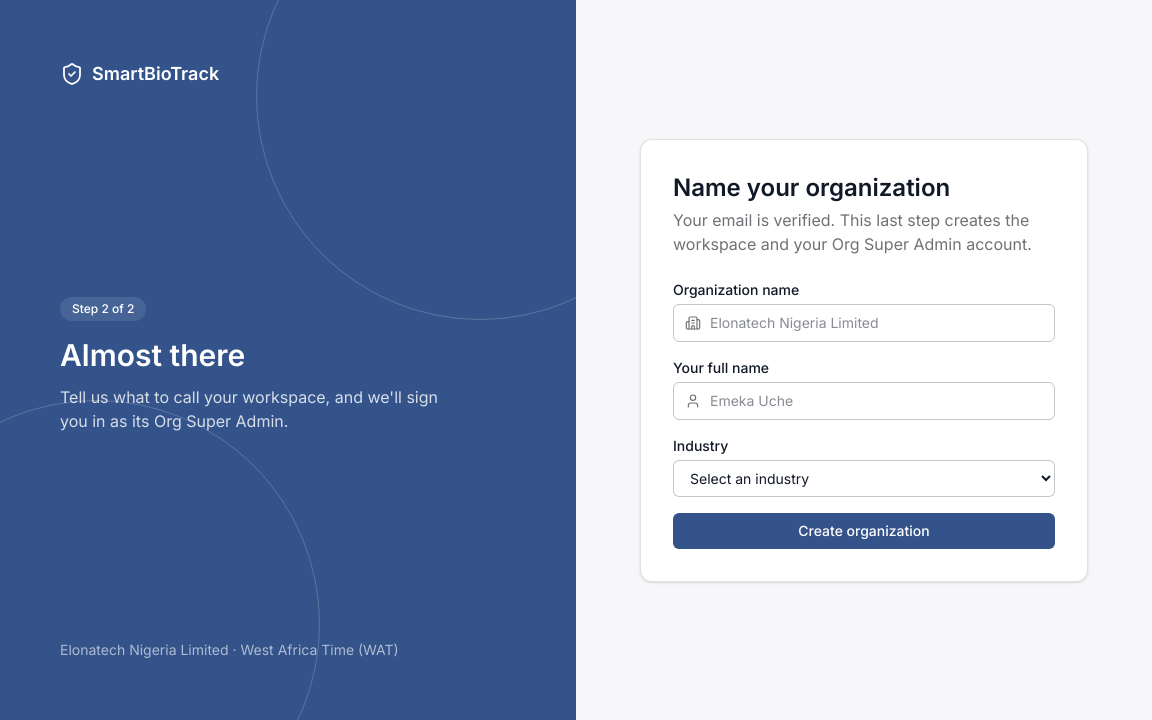
it: when it fails › reports an expired link in the server’s words
Type "Acme Ltd" into the field labelled "Organization name" at [864, 322], box [673,304,1055,342]
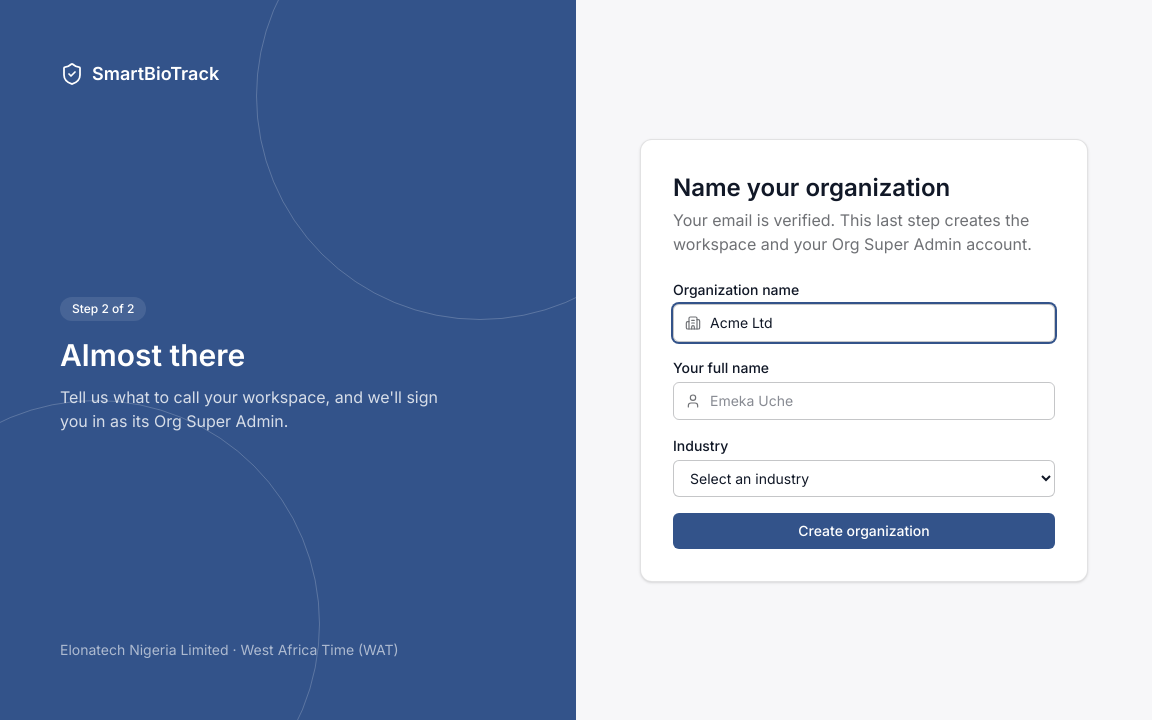
Type "Ada Okafor" into the field labelled "Your full name" at [864, 400], box [673,382,1055,420]
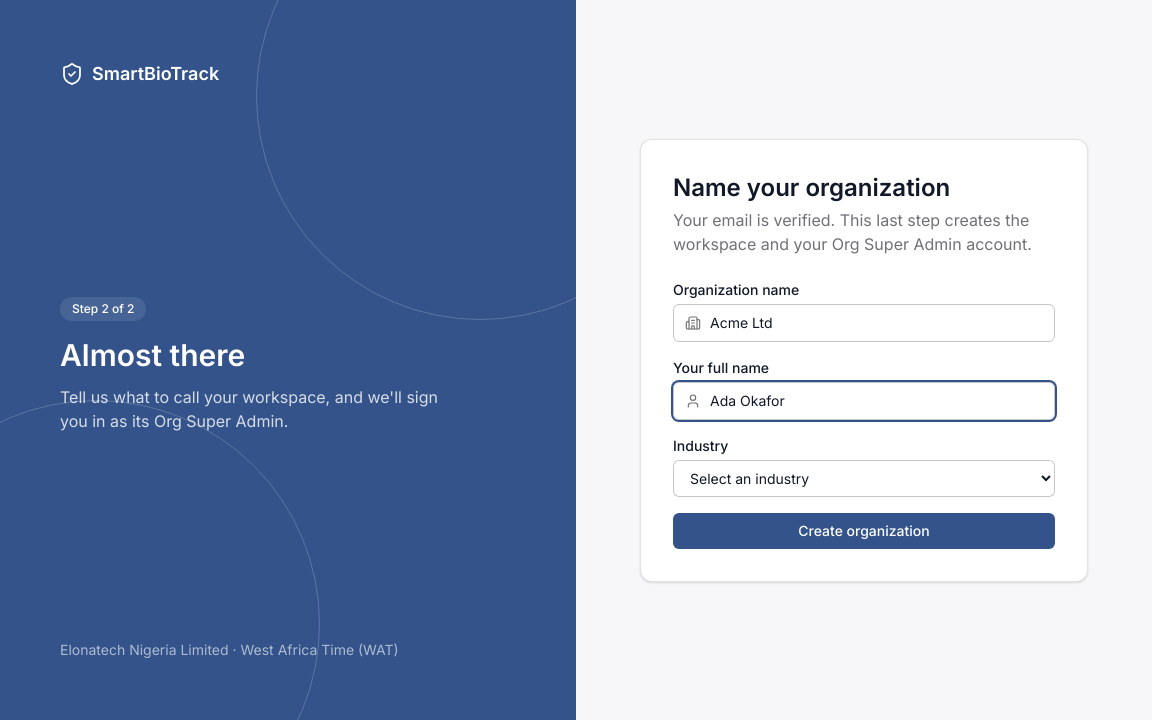
Select "Financial Services" in the dropdown labelled "Industry" at [864, 478], box [673,460,1055,496]
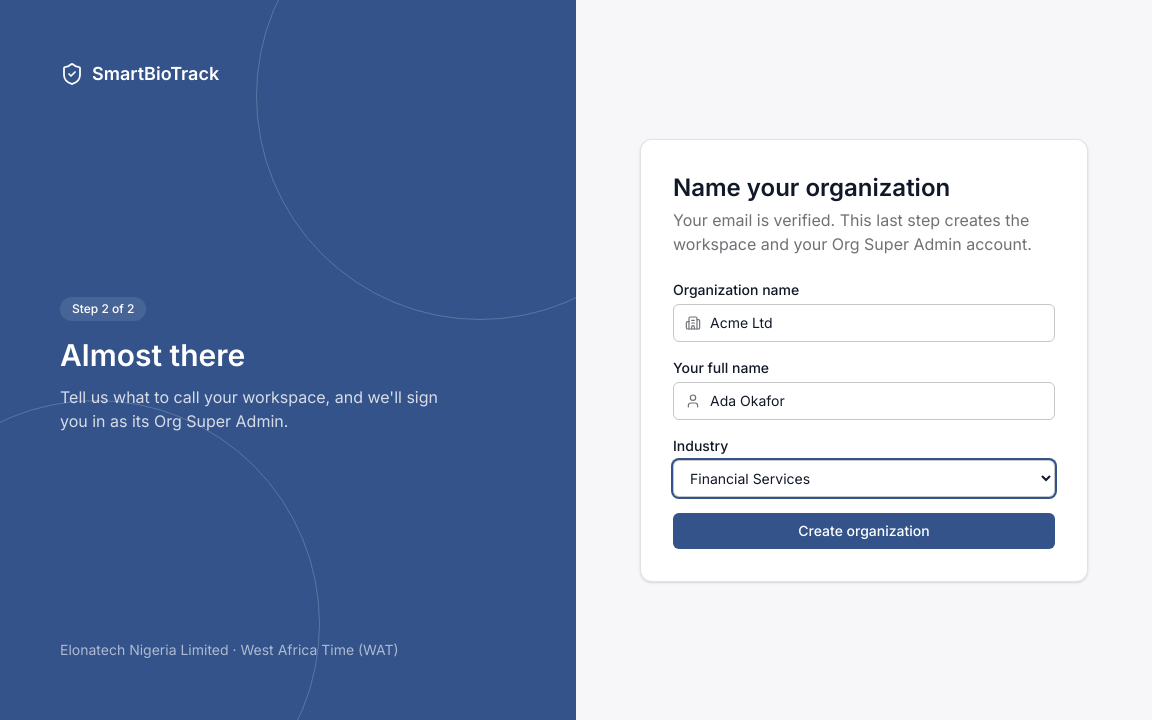
Click the button "Create organization" at [864, 530], box [673,512,1055,548]
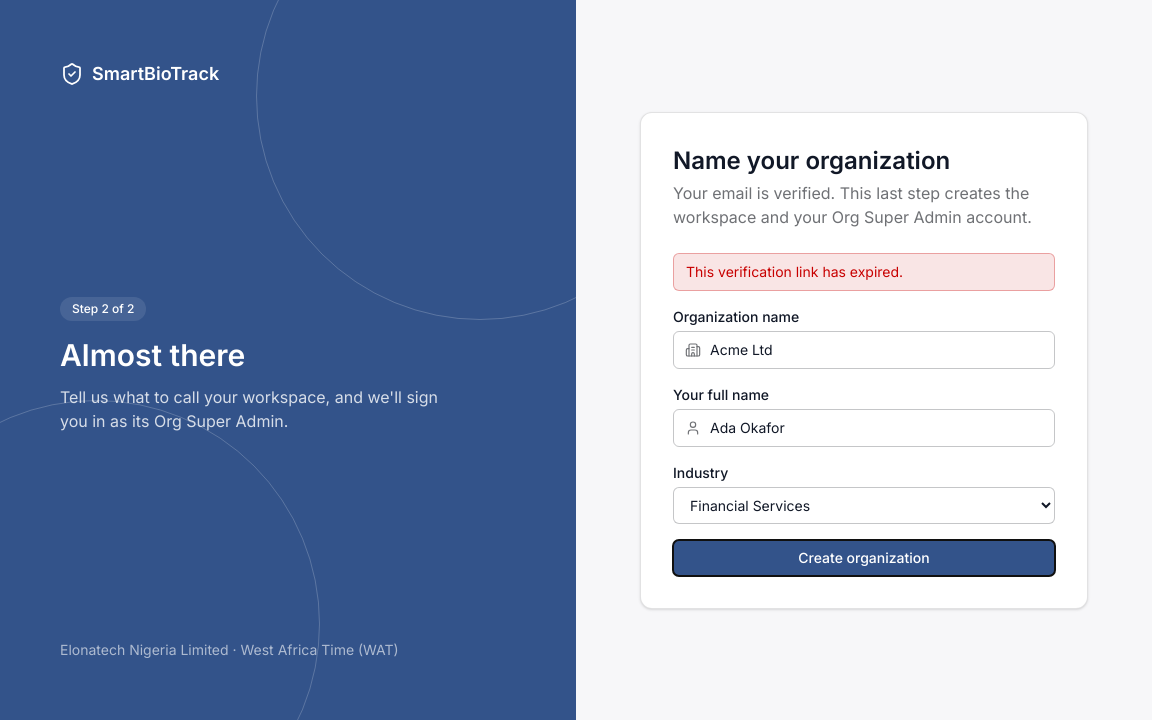
Expected: the text "This verification link has expired." is shown, [673,252,1055,290]
